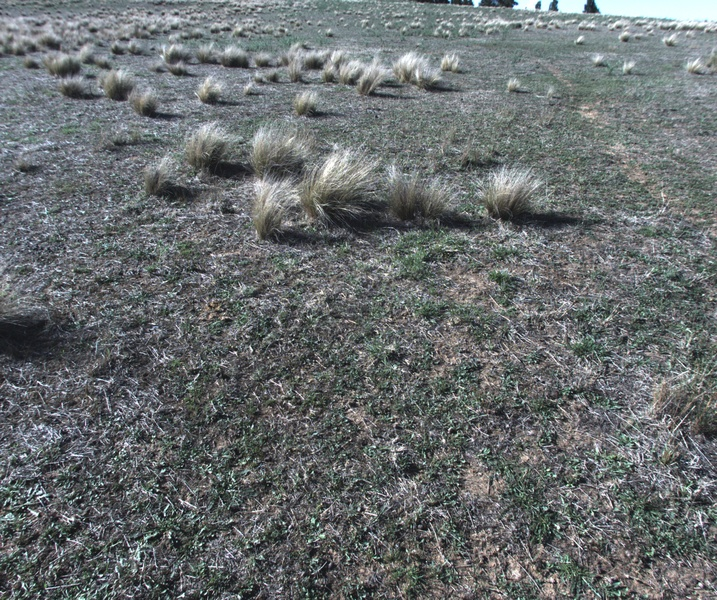st: (309, 154, 370, 224), (387, 171, 458, 228), (485, 166, 542, 225), (251, 126, 305, 188), (256, 183, 291, 234), (144, 160, 193, 196), (191, 123, 228, 170), (157, 44, 189, 80), (101, 68, 136, 100), (393, 51, 420, 80), (196, 78, 224, 104), (136, 86, 158, 119), (685, 54, 714, 77), (290, 55, 310, 88), (254, 46, 280, 71), (48, 54, 76, 77), (61, 79, 88, 101), (296, 91, 317, 119), (222, 47, 248, 68), (499, 75, 520, 99), (440, 52, 464, 70), (242, 78, 262, 99), (347, 60, 361, 88), (422, 67, 440, 87), (198, 44, 215, 64), (362, 72, 377, 94), (79, 44, 94, 66), (262, 67, 278, 83), (621, 60, 636, 77), (538, 88, 556, 102), (663, 31, 678, 47), (326, 64, 337, 83), (593, 54, 610, 64), (620, 30, 629, 45), (574, 36, 585, 47)
